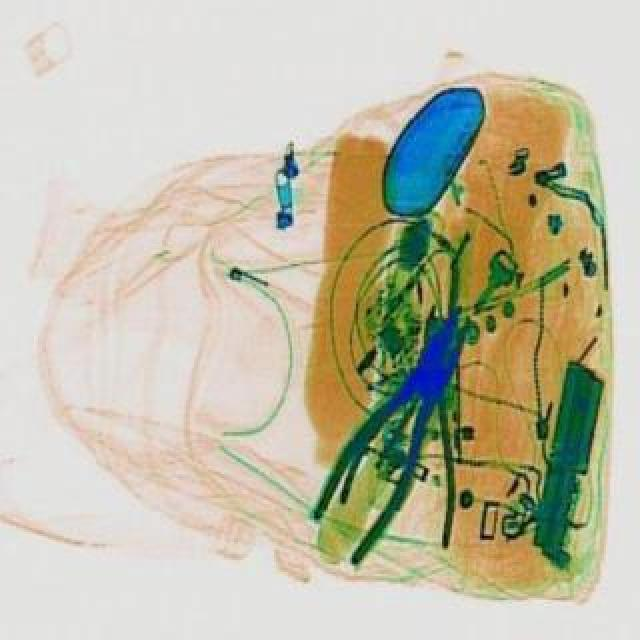wrench: (296, 300, 502, 576), (334, 306, 526, 556)
